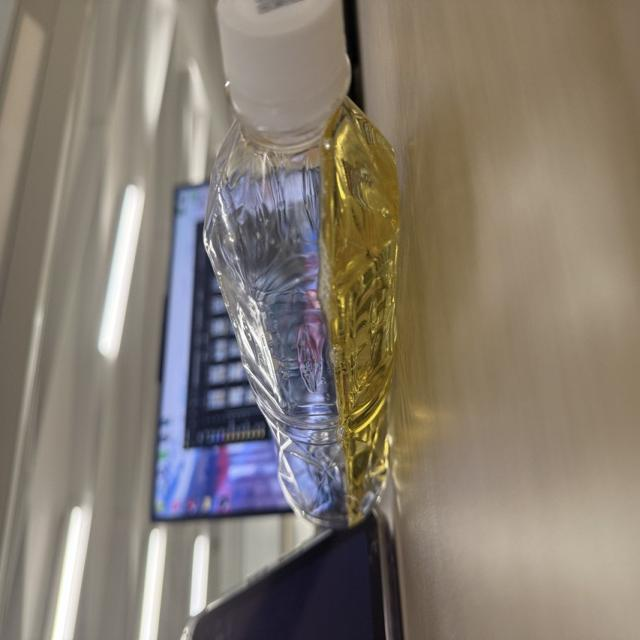low: (203, 0, 400, 525)
